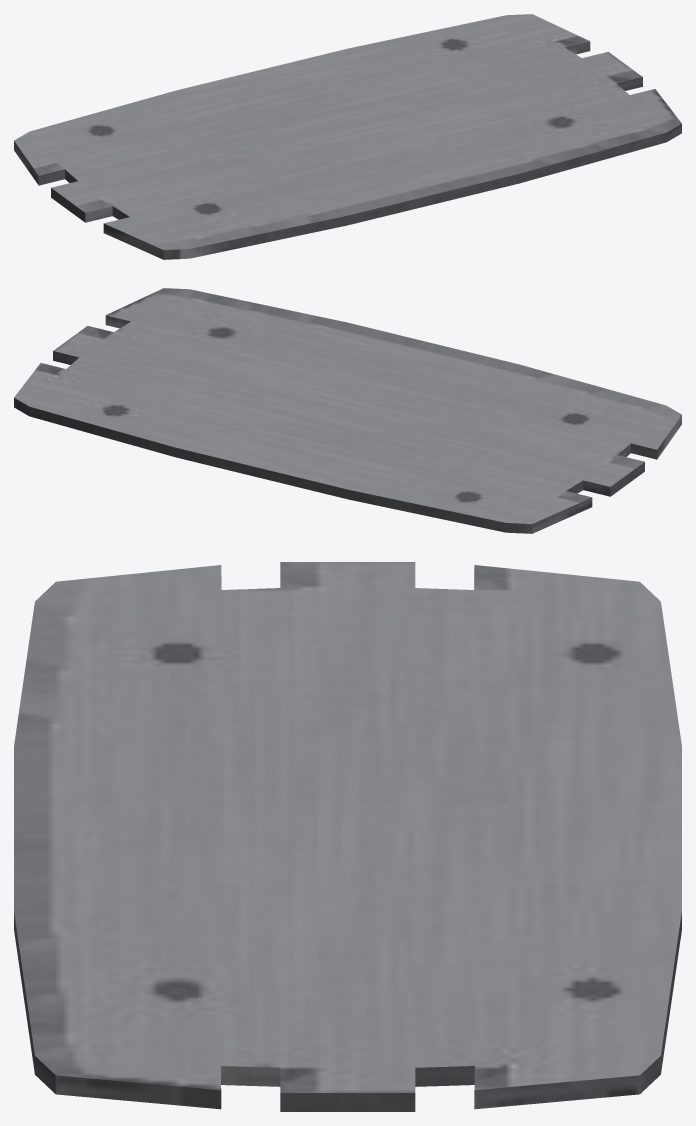
Rendered from cooler_fin.glb.
The picture shows the model from 3 angles, top to bottom: view 1: azimuth 30°, elevation 25°; view 2: azimuth 150°, elevation 25°; view 3: azimuth 270°, elevation 25°; orthographic projection. The views are drawn at different scales.
Parts seen in each view (by area): view 1: fins.001; view 2: fins.001; view 3: fins.001.
Boxes of the visible parts, x1,y1,x2,y2 form: fins.001: (14, 14, 681, 259); fins.001: (14, 288, 681, 533); fins.001: (14, 562, 681, 1111).
Size of the model in its own units: 4.42 by 0.0739 by 2.35.
1 material, 1 textured.
